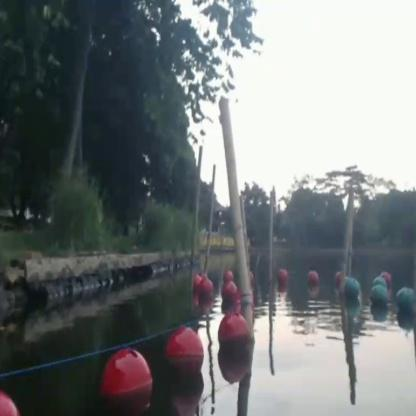green_buoy: (396, 283, 415, 328), (342, 282, 362, 306), (372, 290, 388, 316), (373, 277, 383, 287)
red_buoy: (104, 352, 154, 415), (160, 328, 207, 390), (219, 317, 256, 367), (219, 286, 236, 310), (196, 285, 212, 303), (306, 268, 318, 290), (278, 267, 288, 287), (382, 268, 393, 282), (224, 270, 232, 284)
